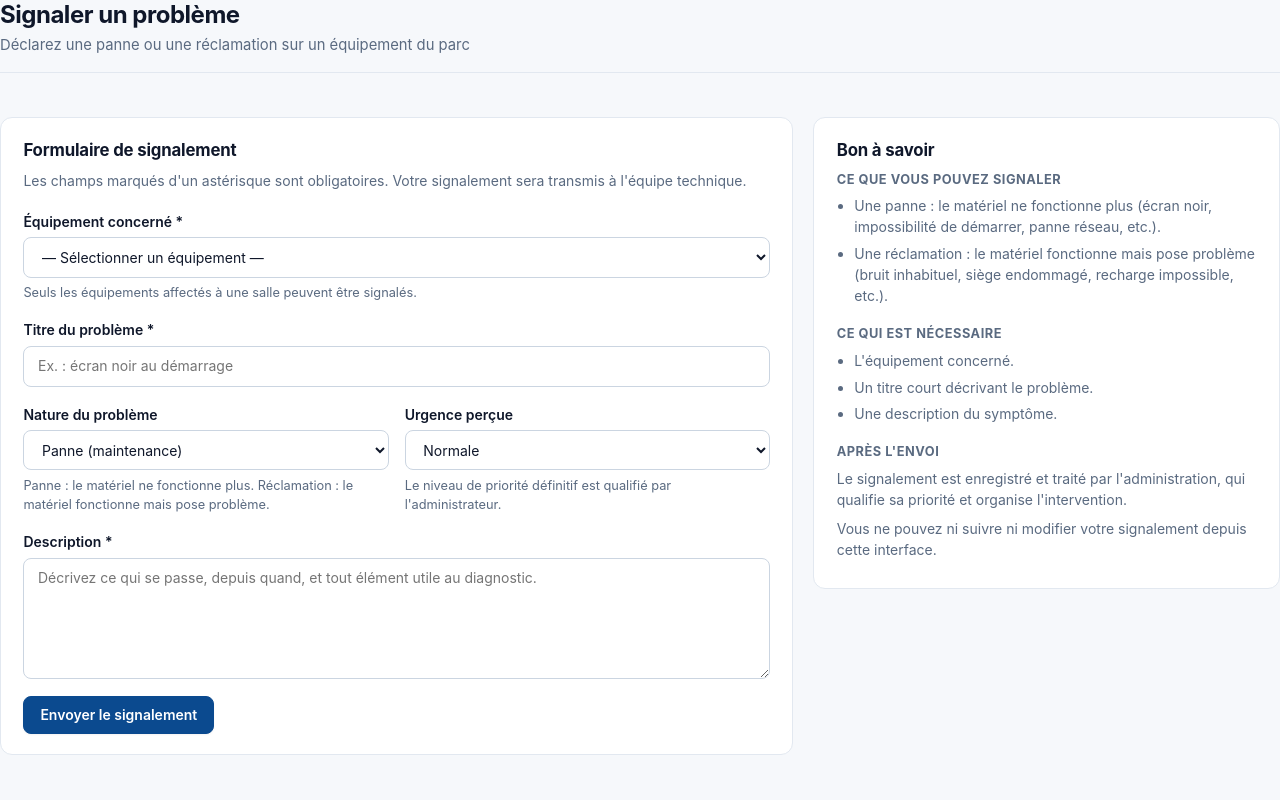
it: TicketPublic.vue › validation et soumission › affiche le détail renvoyé par l'API quand l'envoi échoue
Step 1. Select "Vidéoprojecteur — INV-001" in the dropdown with id "equipement" → [397, 258], box [23,237,770,278]
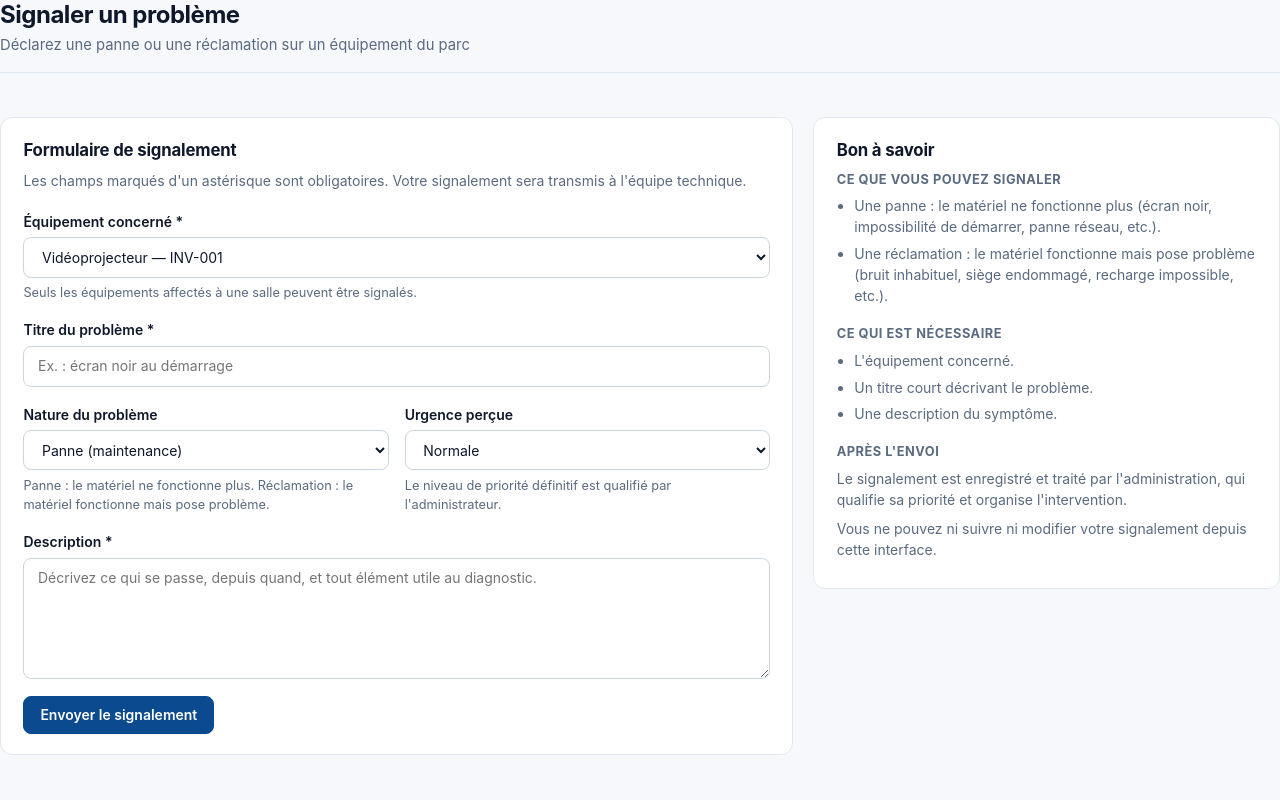
Step 2. Type "  Écran noir au démarrage  " into the field with id "titre" → [397, 366], box [23,346,770,387]
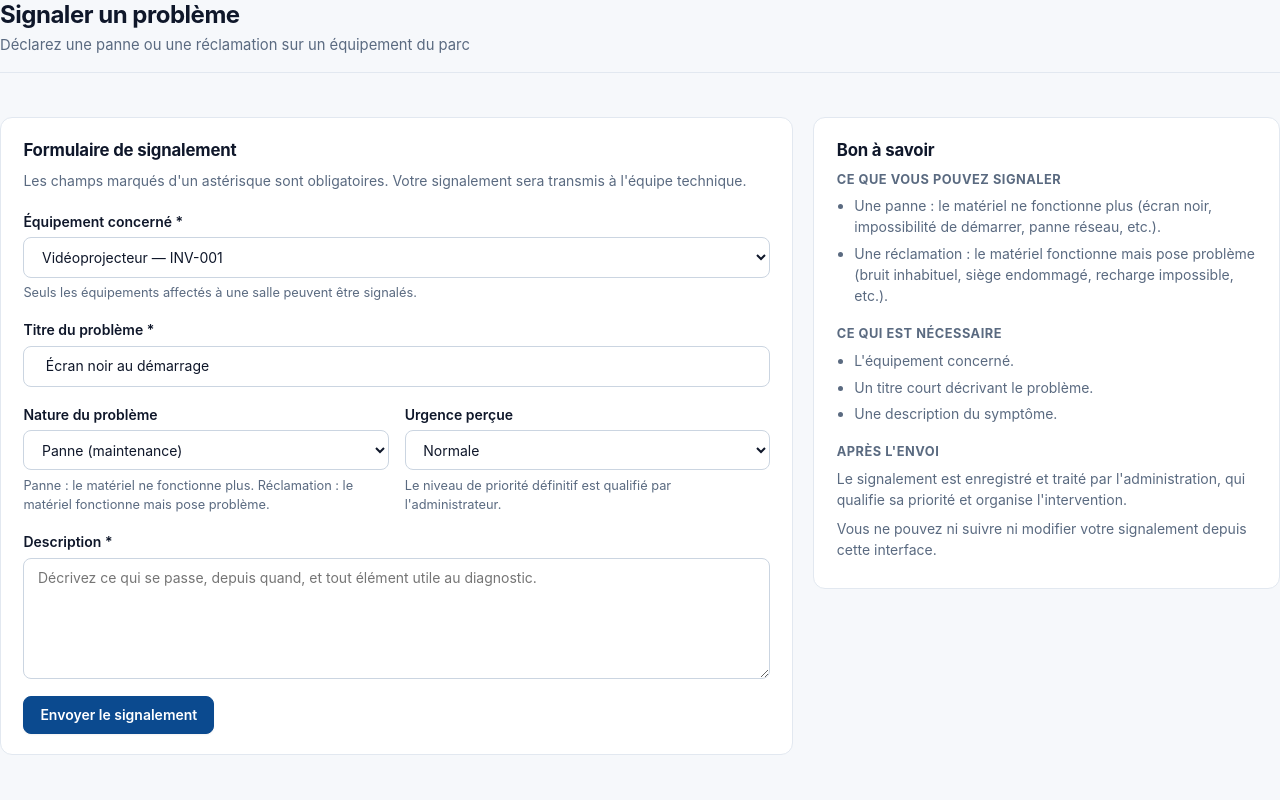
Step 3. Replace the text in the text box with id "description" with "  L'écran reste noir après démarrage.  " → [397, 618], box [23,558,770,679]
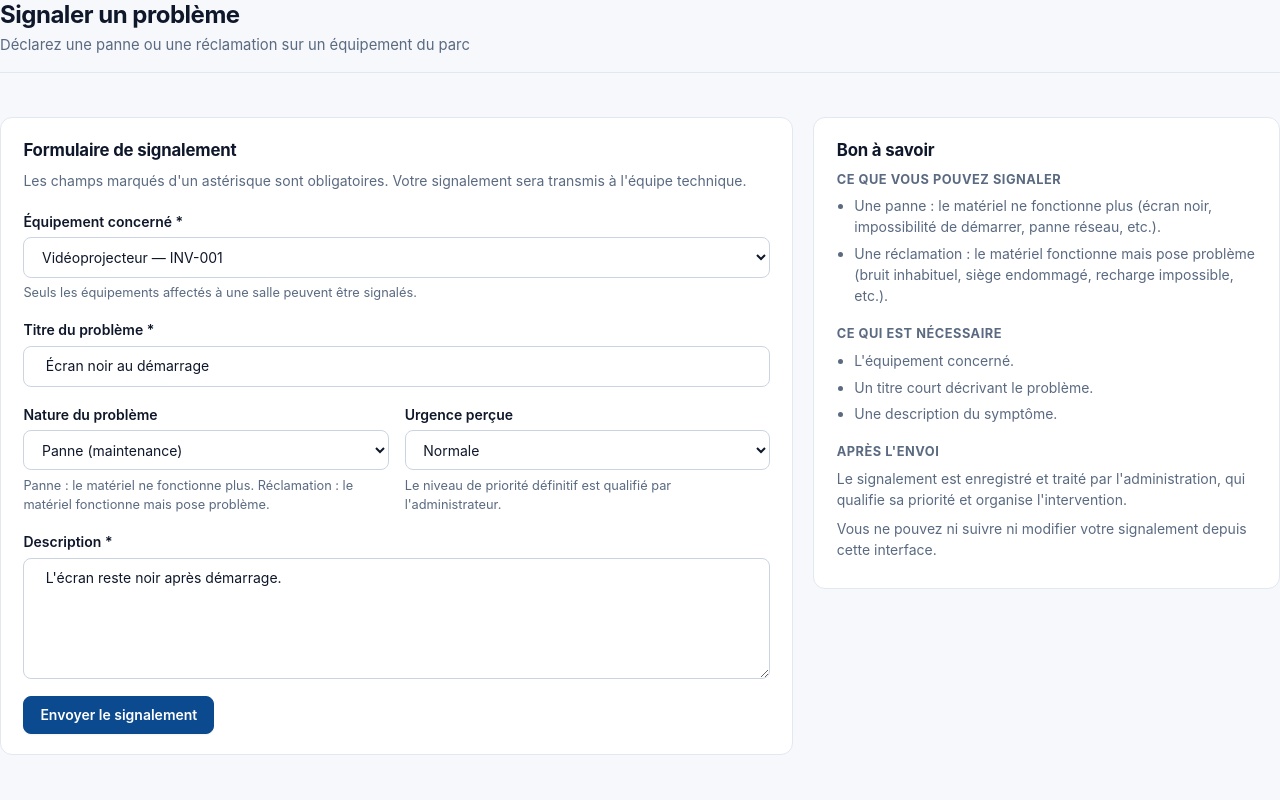
Step 4. Submit the form, box [23,211,770,734]
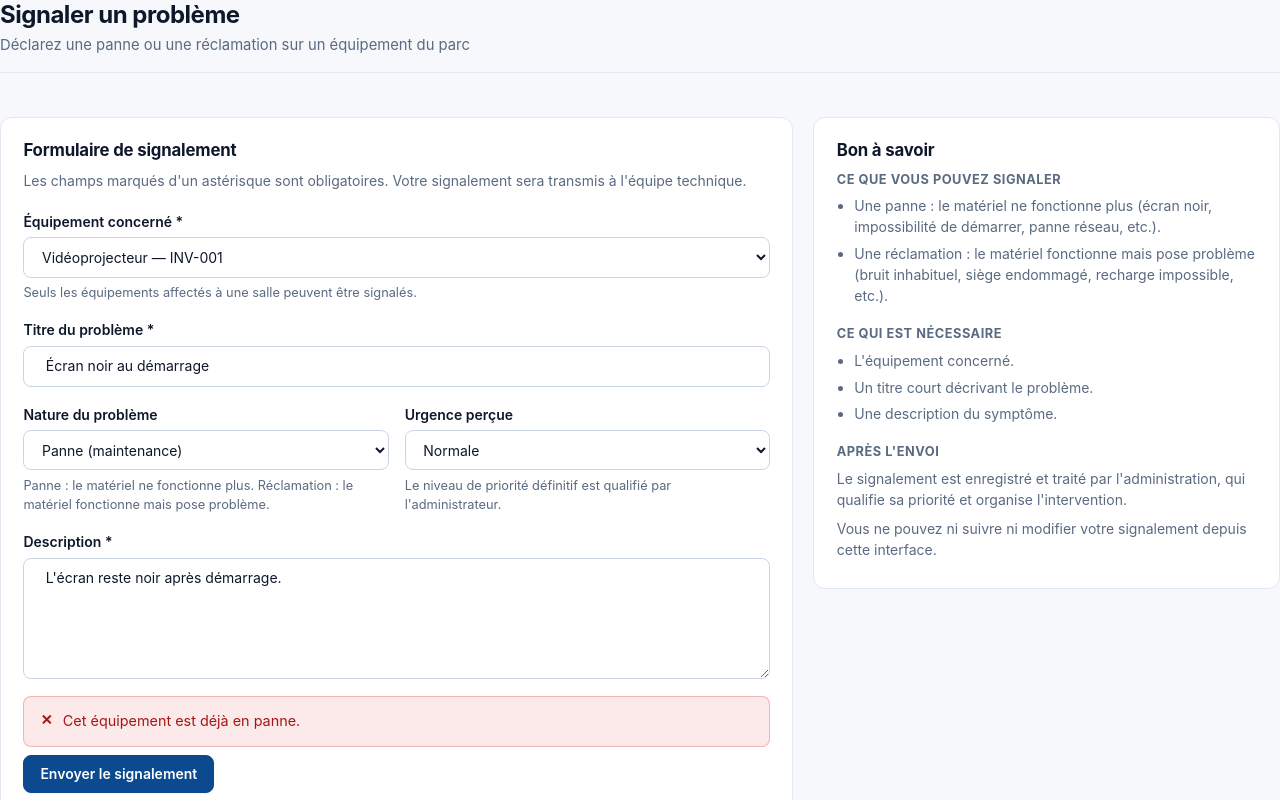
Expected: the submit button is enabled, [23,755,214,793]
Now the message "✕ Cet équipement est déjà en panne." is shown, box [23,696,770,747]
